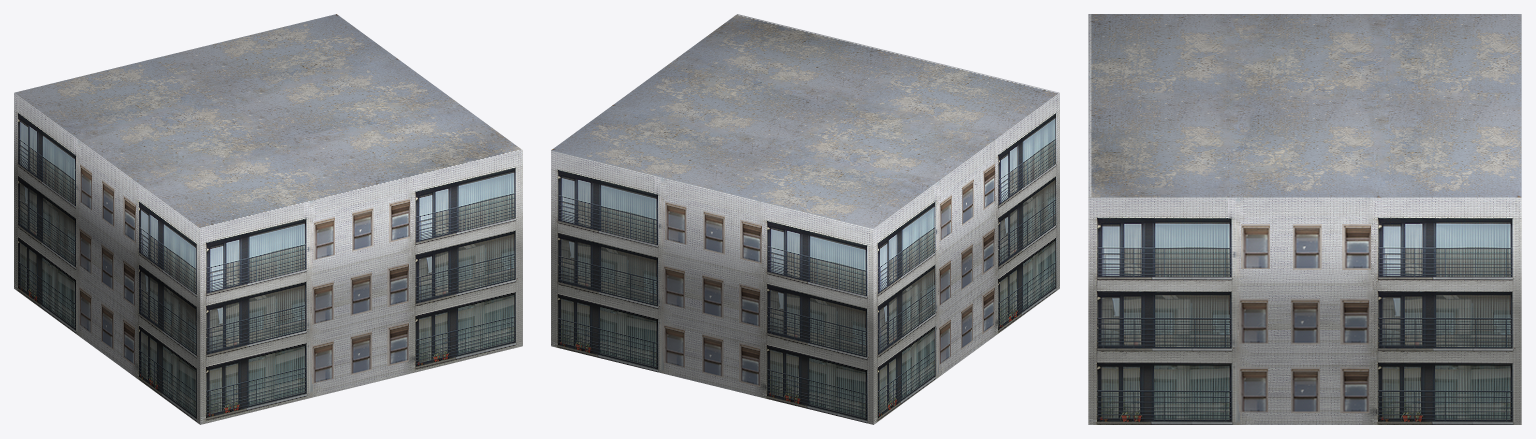
Rendered from SurroundingEnvironment_BuildingStackable2.fbx.
3 views of the same model, side by side, from view 1: azimuth 30°, elevation 25°; view 2: azimuth 150°, elevation 25°; view 3: azimuth 270°, elevation 25° (orthographic). The views are drawn at different scales.
Parts seen in each view (by area): view 1: LowPolyBuilding2; view 2: LowPolyBuilding2; view 3: LowPolyBuilding2.
Part boxes in pixels (bbox=[...]): LowPolyBuilding2: bbox=[14, 14, 522, 424]; LowPolyBuilding2: bbox=[551, 14, 1059, 424]; LowPolyBuilding2: bbox=[1088, 14, 1521, 424].
Size of the model in its own units: 1646 by 956 by 1646.
